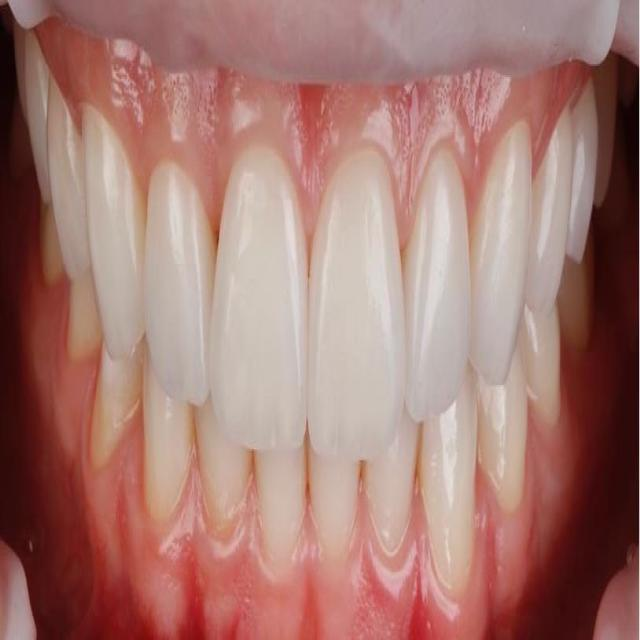1st Molar: (561, 240, 593, 359), (595, 72, 616, 205), (40, 204, 64, 286)
1st Premolar: (526, 110, 577, 312), (479, 326, 528, 517), (47, 86, 90, 284), (90, 347, 143, 473)
2nd Premolar: (567, 84, 598, 268), (524, 306, 561, 431), (24, 37, 50, 202), (67, 279, 101, 361)
Canine: (470, 123, 533, 385), (82, 106, 145, 359), (418, 372, 480, 601), (142, 347, 193, 535)
Central Incisor: (307, 147, 405, 464), (208, 145, 308, 449), (307, 453, 362, 572), (256, 449, 307, 568)
Lateral Incisor: (403, 143, 472, 422), (145, 163, 216, 405), (363, 420, 421, 559), (195, 405, 252, 543)
